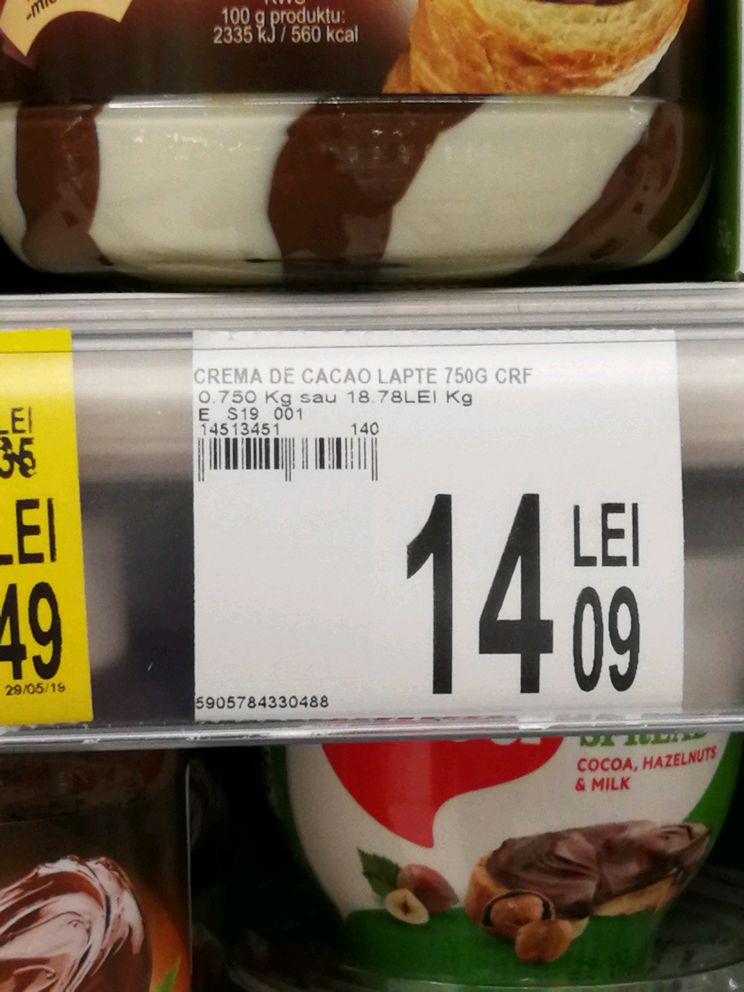price_bani: (568, 580, 649, 697)
price_lei: (382, 480, 563, 700)
price_tag: (182, 320, 698, 726)
product_id: (185, 692, 340, 714)
product_name: (190, 357, 540, 390)
